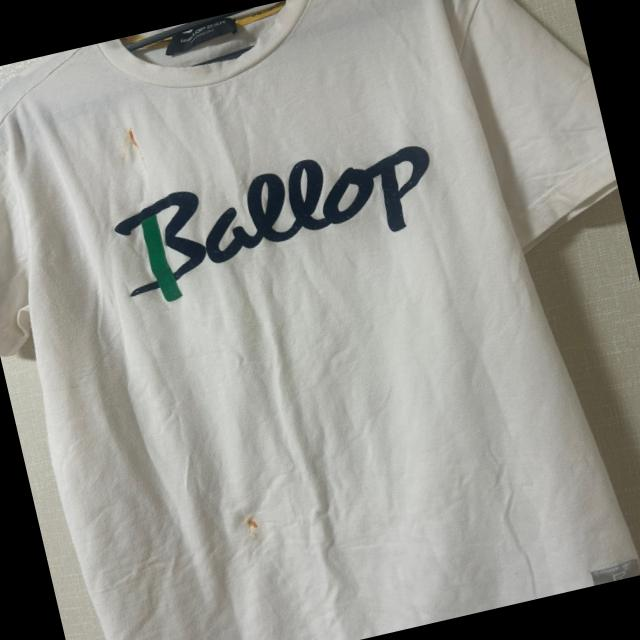stain: (122, 118, 158, 154), (233, 506, 264, 544)
